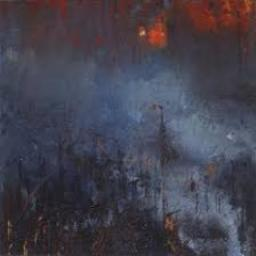Heavy smoke: (1, 59, 256, 256)
